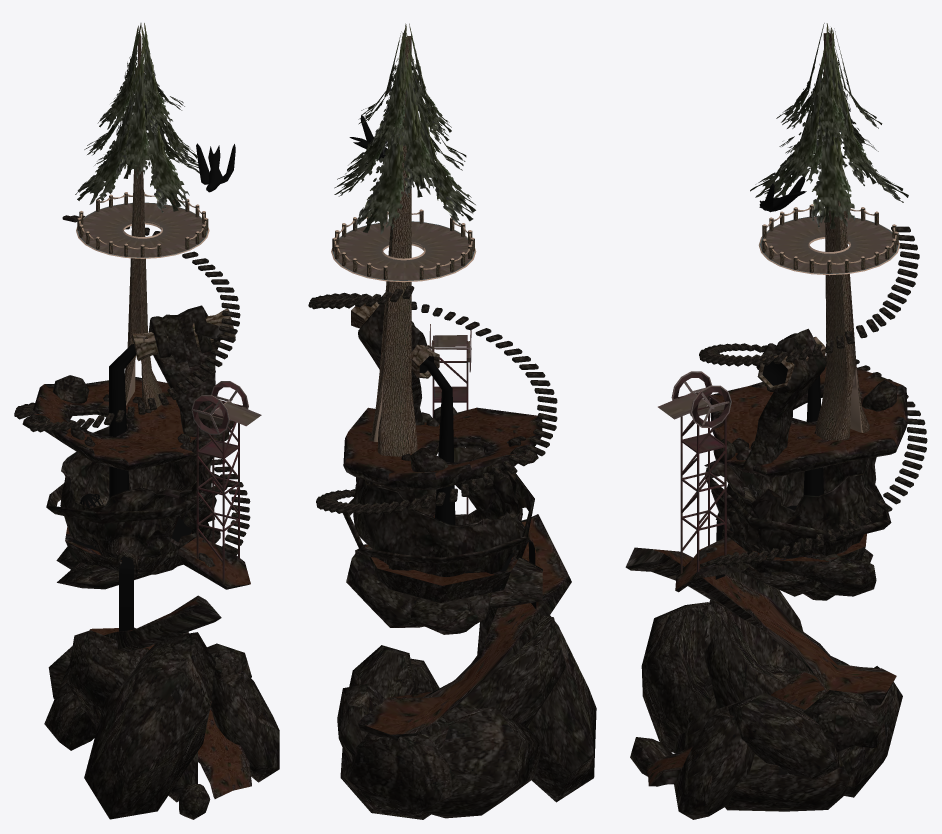
The model's file is LoveDeath_Tower_Art.glb.
3 renders of one model, left to right at view 1: azimuth 30°, elevation 25°; view 2: azimuth 150°, elevation 25°; view 3: azimuth 270°, elevation 25°, orthographic. The views are drawn at different scales.
Visible parts, largest first — view 1: LoveDeath_Tower_Art; view 2: LoveDeath_Tower_Art; view 3: LoveDeath_Tower_Art.
Part boxes in pixels (<box>): LoveDeath_Tower_Art: <box>14,23,279,819</box>; LoveDeath_Tower_Art: <box>308,23,596,819</box>; LoveDeath_Tower_Art: <box>625,23,927,819</box>.
Bounding box in the file's own units: 15.57 × 55.04 × 19.2.
Materials: 6 (6 with a texture image).
